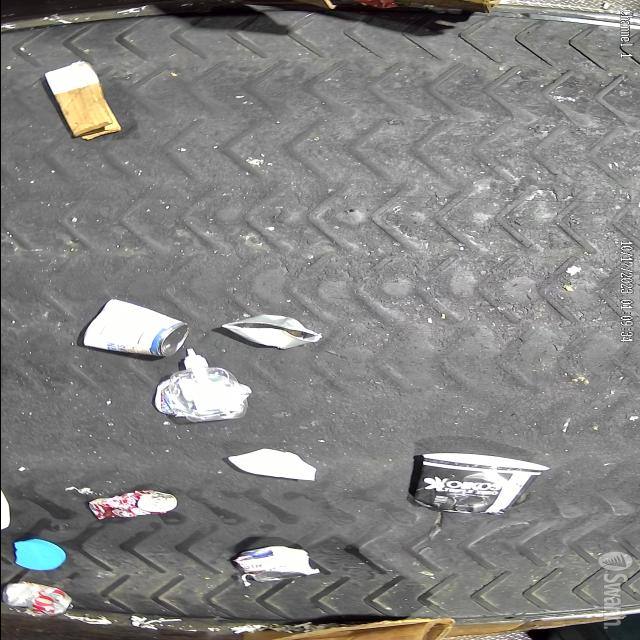can: (80, 298, 190, 358), (220, 314, 322, 349), (86, 490, 176, 521), (2, 582, 74, 620), (235, 546, 311, 580)
